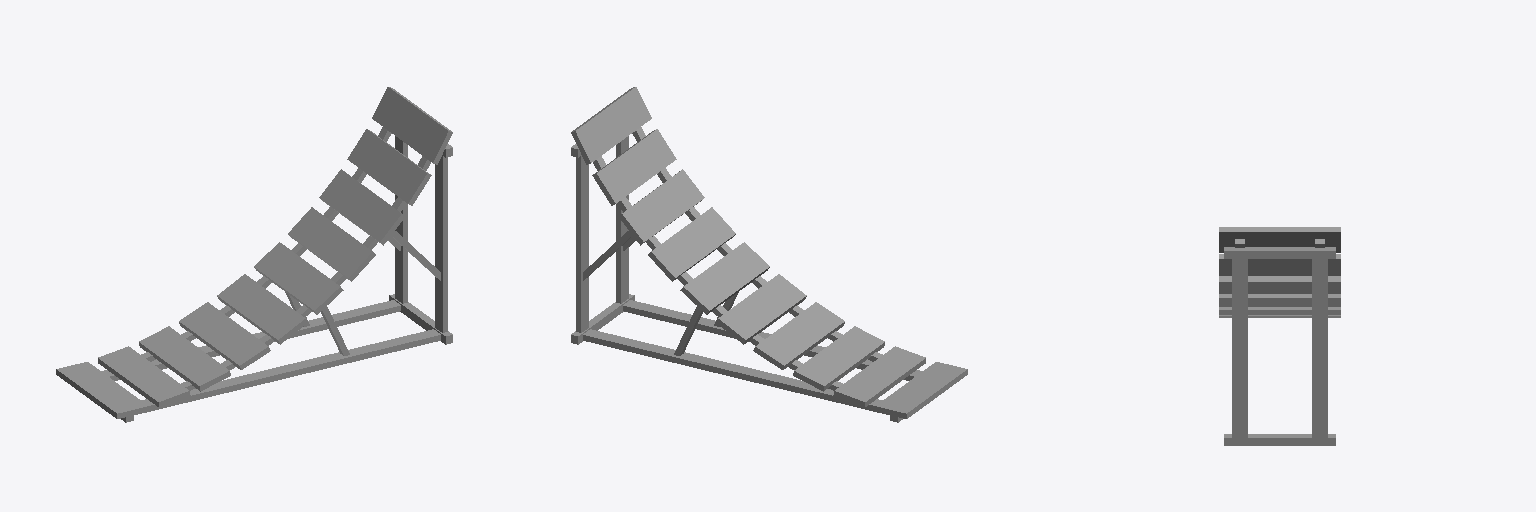
File: Ramp_mid_v.obj
The picture shows the model from 3 angles: view 1: azimuth 30°, elevation 25°; view 2: azimuth 150°, elevation 25°; view 3: azimuth 270°, elevation 25°; orthographic projection.
Visible parts, largest first — view 1: visible_Cube.002; view 2: visible_Cube.002; view 3: visible_Cube.002.
Part boxes in pixels (x1,y1,x2,y2): visible_Cube.002: (56,87,452,422); visible_Cube.002: (571,87,967,422); visible_Cube.002: (1219,227,1340,445).
Bounding box in the file's own units: 6.42 × 3.9 × 2.